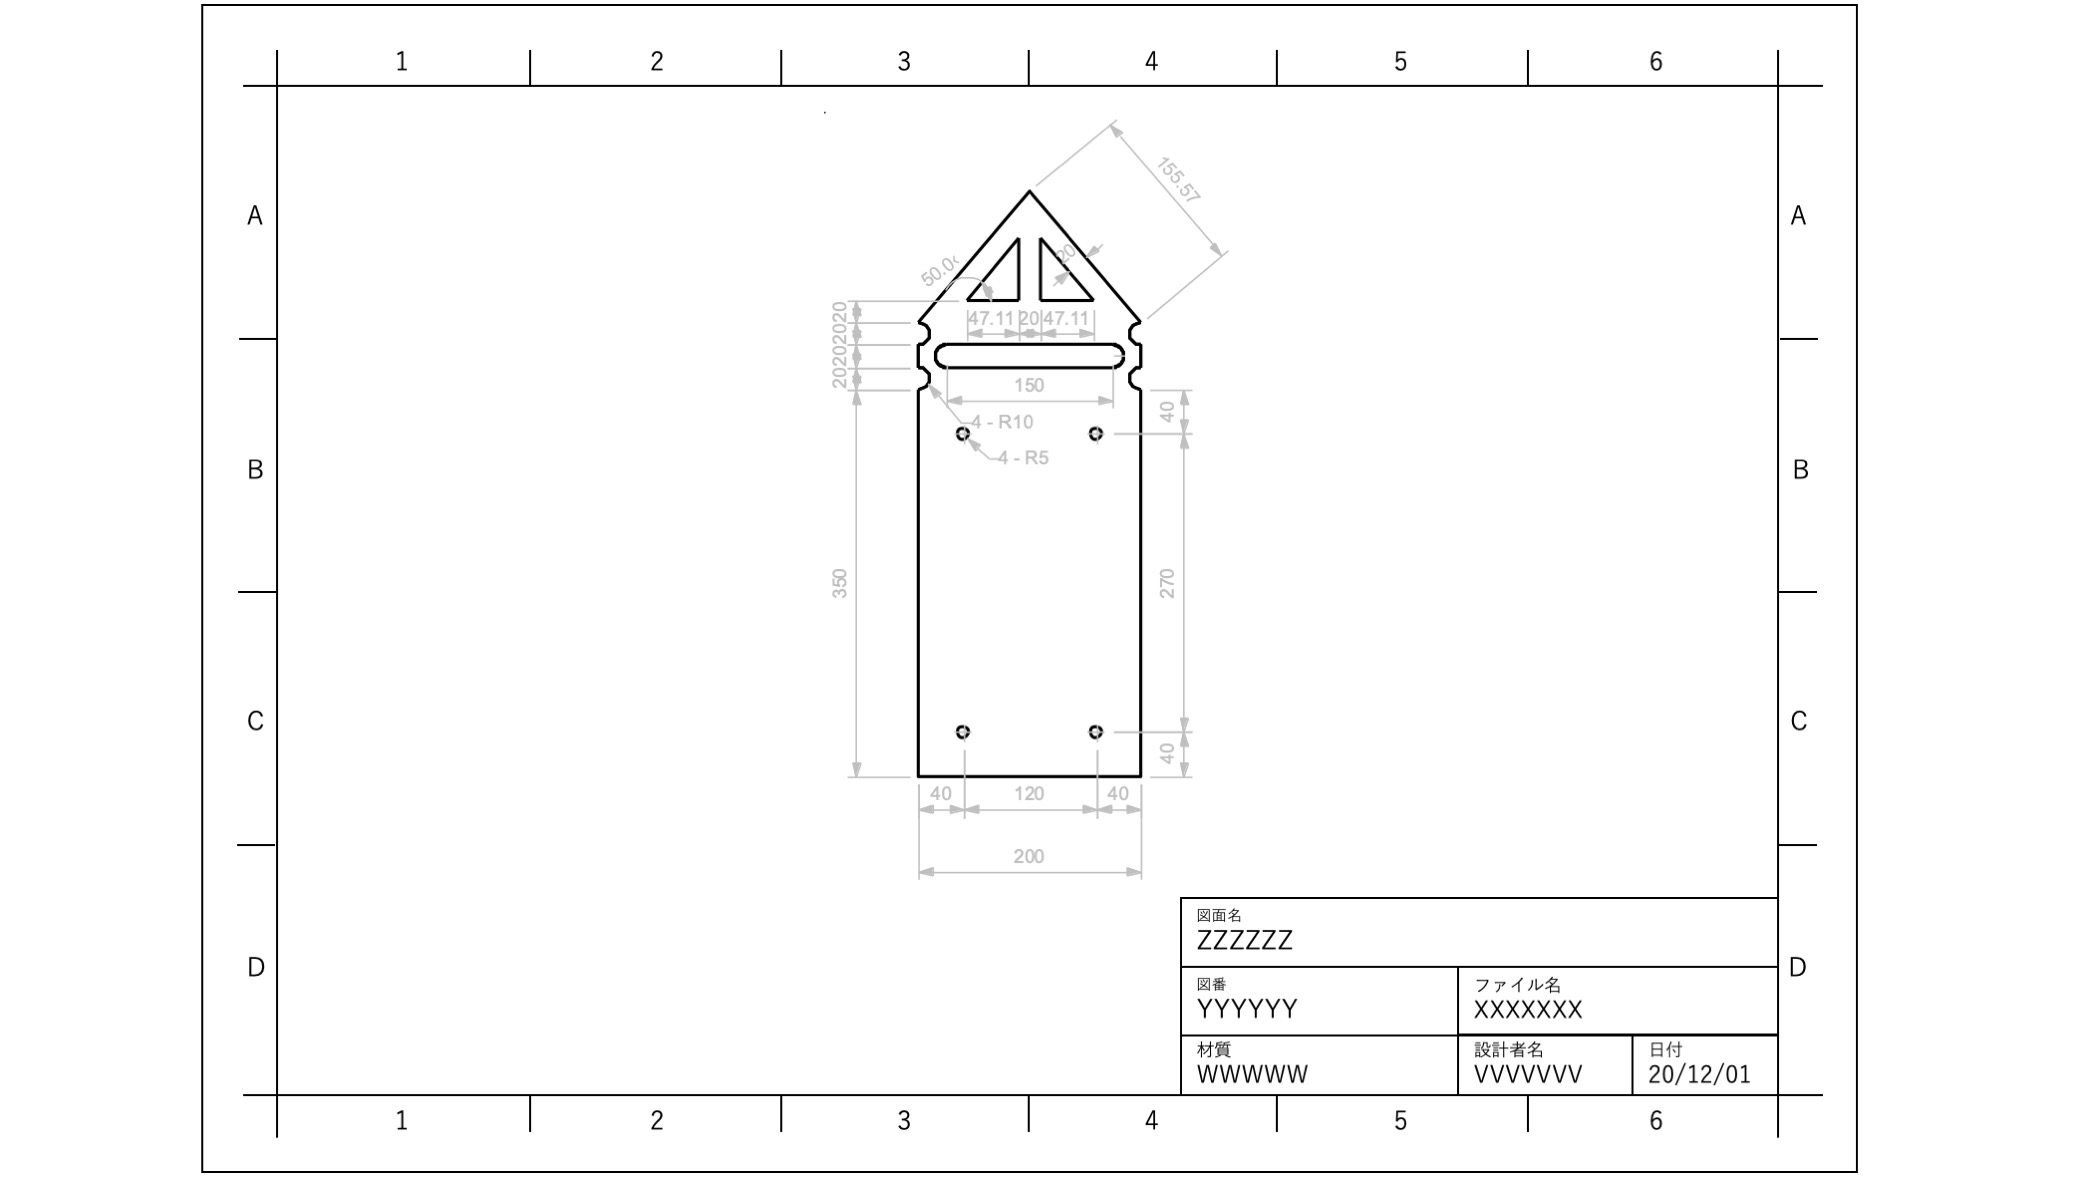circle: (1083, 420, 1105, 444), (953, 420, 974, 446), (1083, 722, 1108, 741), (953, 720, 972, 741)
round_rectangle: (932, 340, 1126, 371)
triangle: (1036, 232, 1098, 316), (963, 234, 1024, 306)
